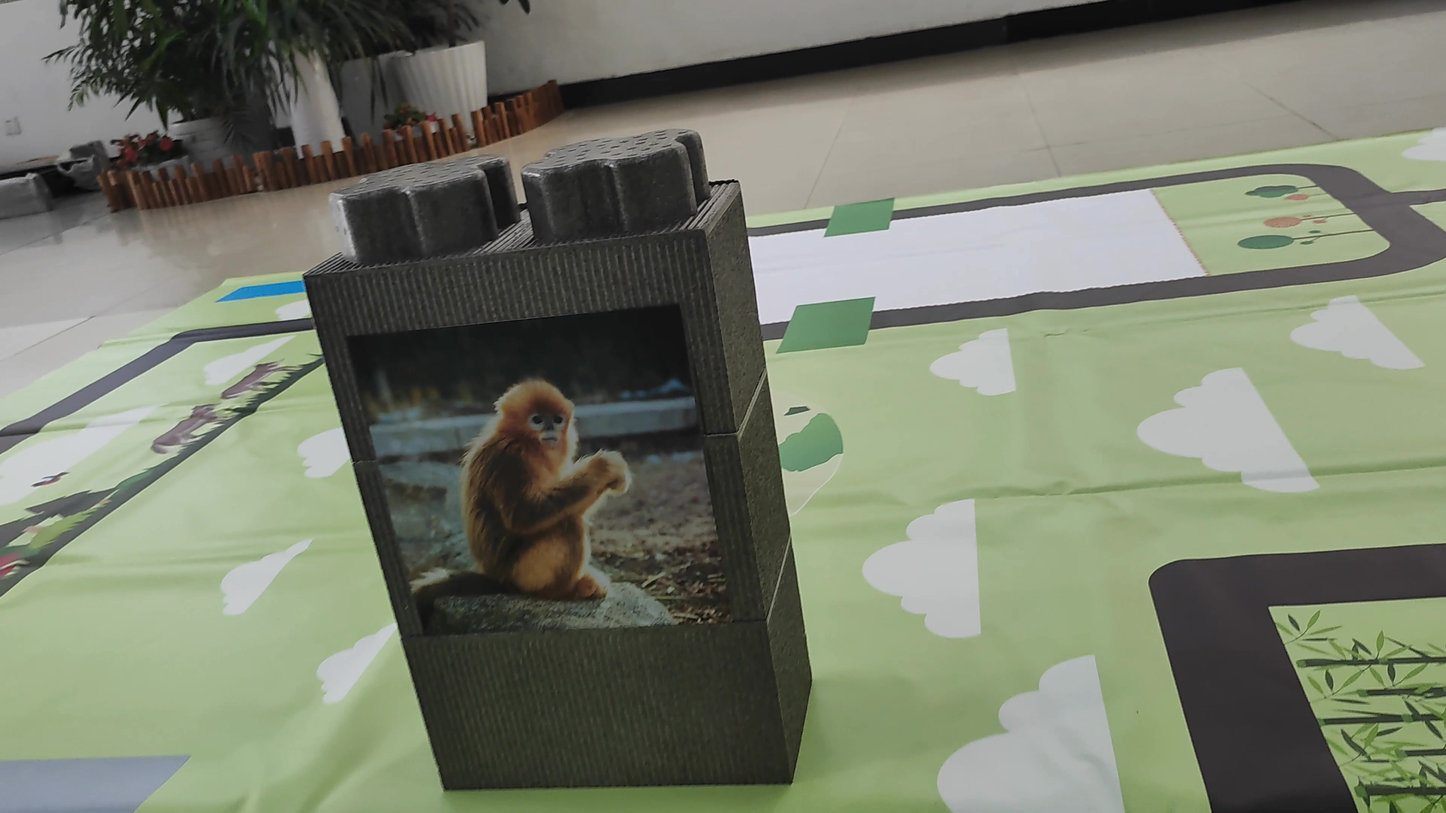monkey: (407, 316, 684, 640)
